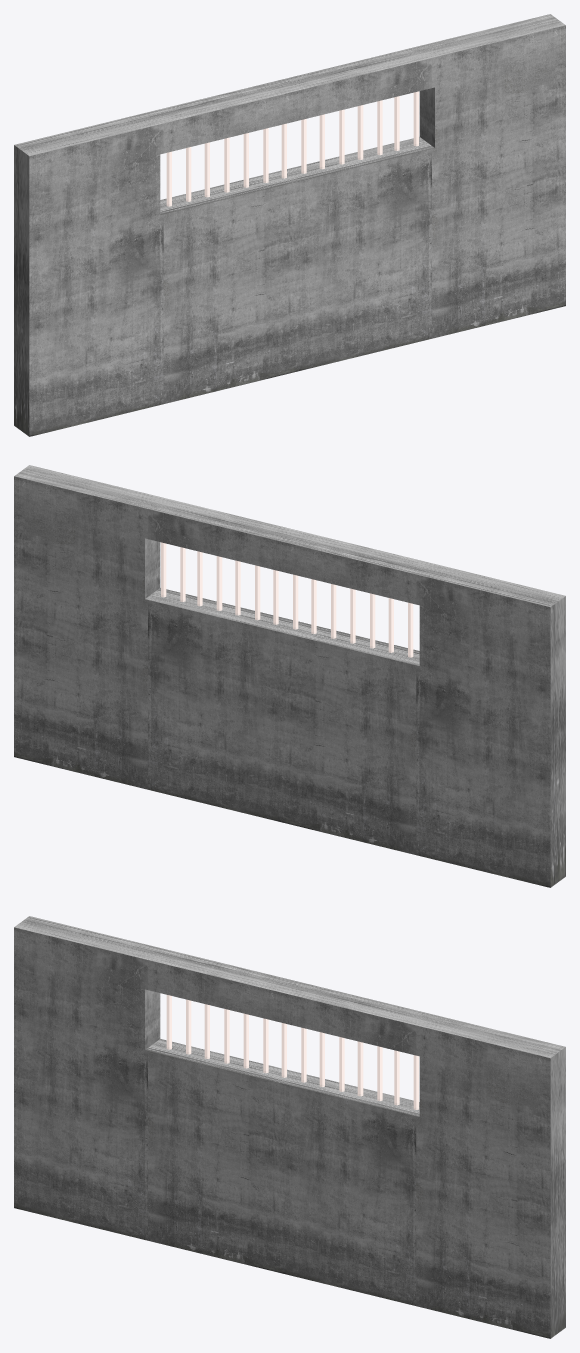
The model's file is concrete_wall.fbx.
3 views of the same model, one above another, from view 1: azimuth 30°, elevation 25°; view 2: azimuth 150°, elevation 25°; view 3: azimuth 330°, elevation 25° (orthographic).
Visible parts, largest first — view 1: wall; view 2: wall; view 3: wall.
Boxes of the visible parts, x1=… form: wall: x1=14, y1=14, x2=565, y2=436; wall: x1=14, y1=465, x2=565, y2=887; wall: x1=14, y1=916, x2=565, y2=1338.
Size of the model in its own units: 400 by 200 by 20.
Materials: 2 (1 with a texture image).
